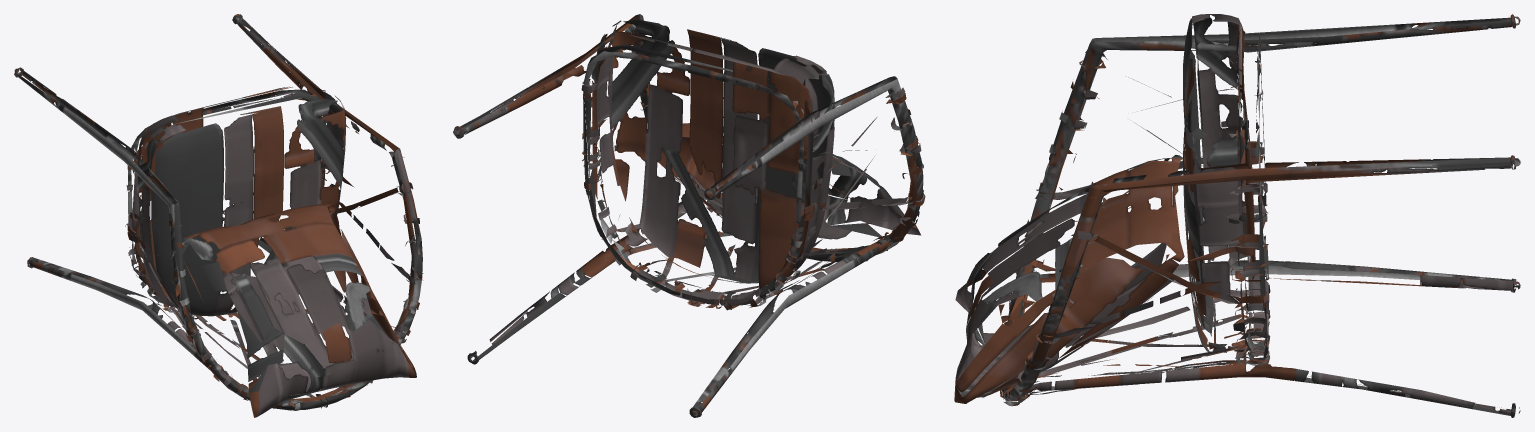
3 renders of one model, left to right at view 1: azimuth 30°, elevation 25°; view 2: azimuth 150°, elevation 25°; view 3: azimuth 270°, elevation 25°, orthographic. The views are drawn at different scales.
Size of the model in its own units: 0.6 by 0.58 by 0.9012.
